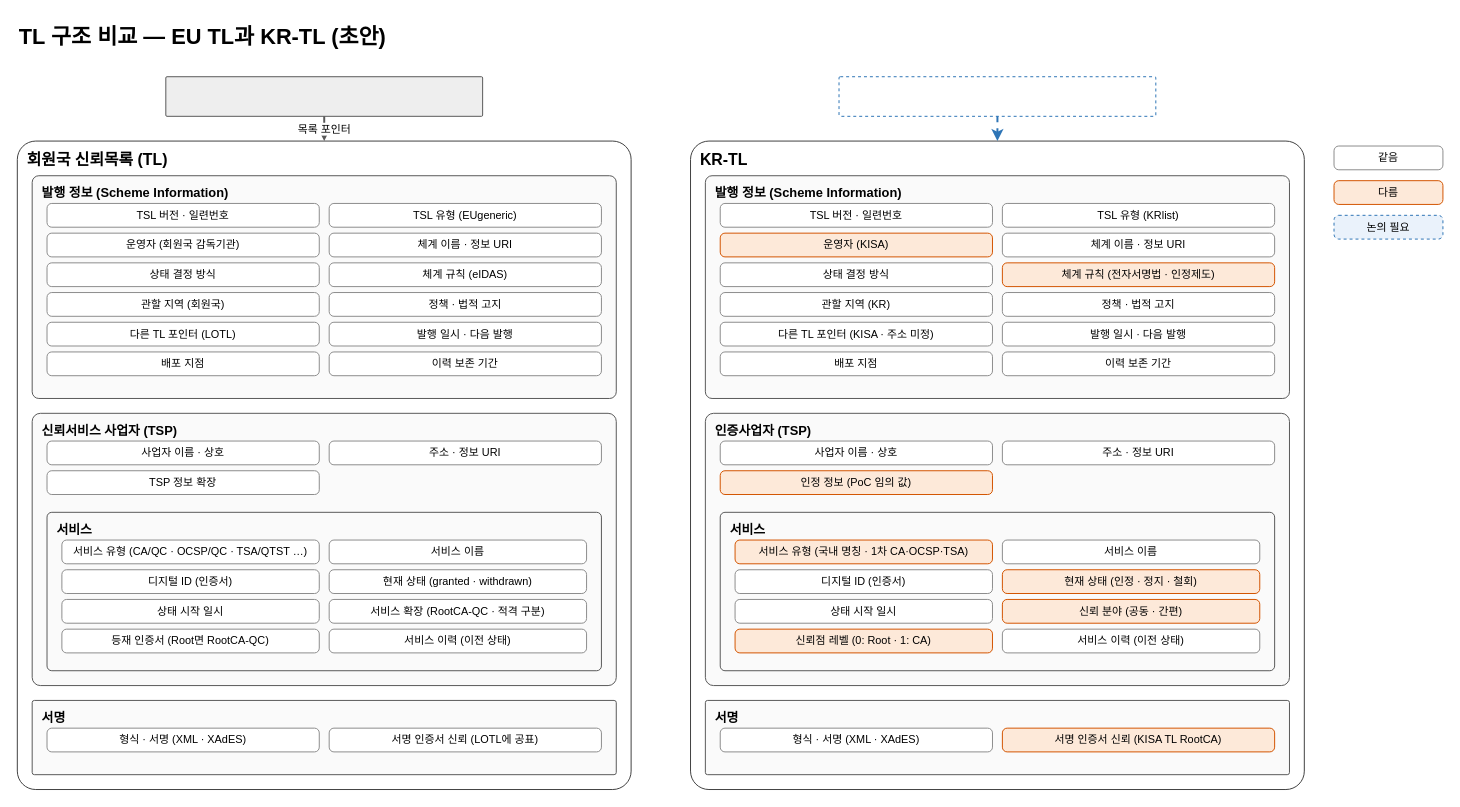
This 1460x807 diagram has some shape labels left out. Each missing label, with the centre of its shape:
"EU LOTL (유럽연합 집행위원회)" goes at point 324,96.
"국제 연동 (향후)" goes at point 997,96.
